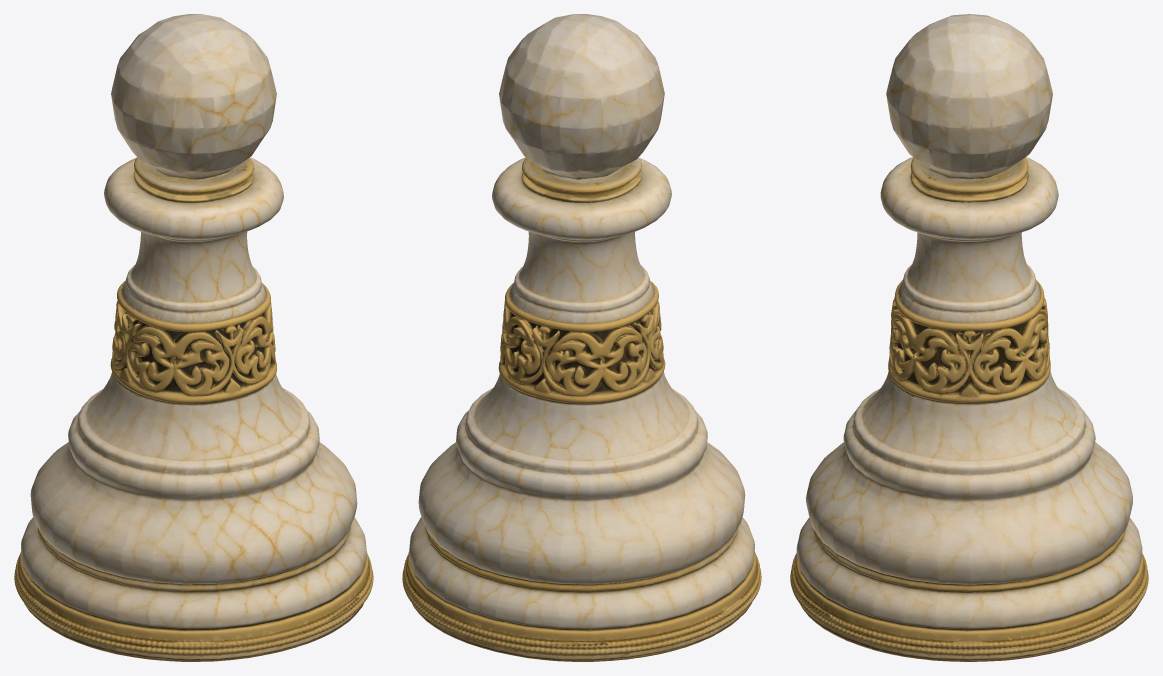
File: baroque_pawn_white_opt.glb
3 views of the same model, side by side, from view 1: azimuth 30°, elevation 25°; view 2: azimuth 150°, elevation 25°; view 3: azimuth 270°, elevation 25° (orthographic).
Bounding box in the file's own units: 1.09 × 1.9 × 1.09.
Materials: 1 (1 with a texture image).
